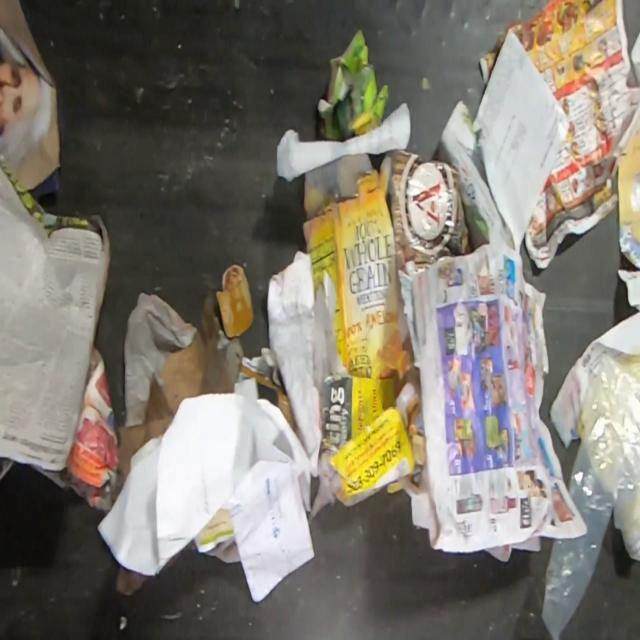cardboard: (297, 151, 416, 379), (377, 149, 472, 275), (216, 265, 254, 339)
soft_plastic: (539, 350, 640, 640)
